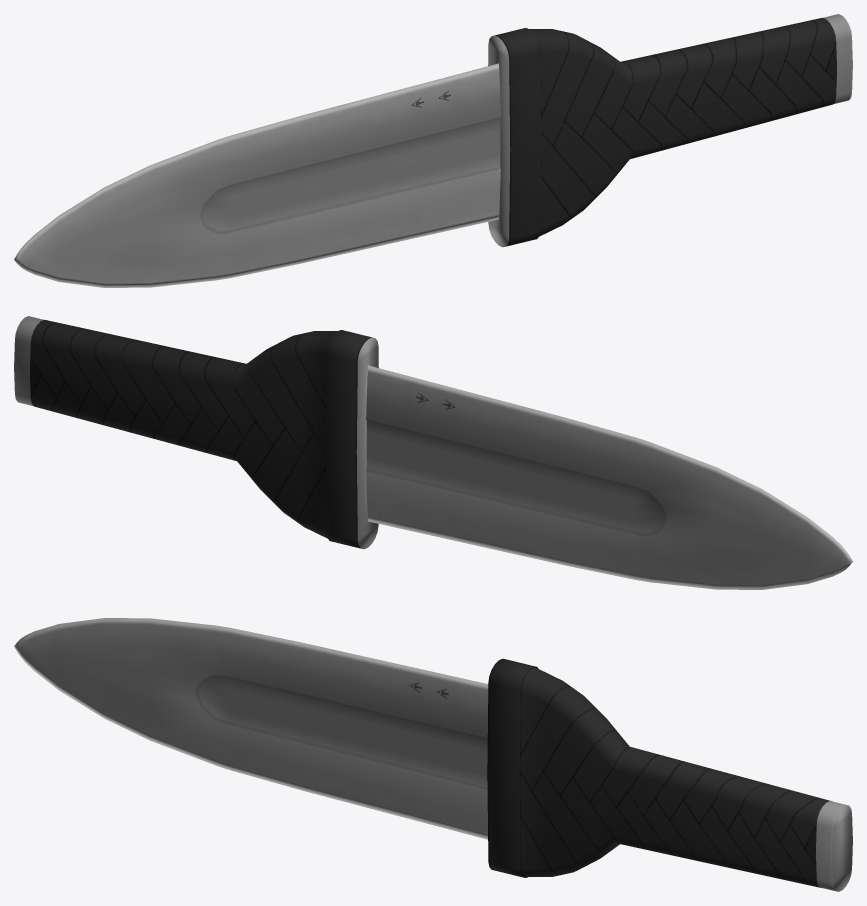
The picture shows the model from 3 angles, top to bottom: view 1: azimuth 30°, elevation 25°; view 2: azimuth 150°, elevation 25°; view 3: azimuth 330°, elevation 25°; orthographic projection.
Parts seen in each view (by area): view 1: Blade, Handle; view 2: Blade, Handle; view 3: Blade, Handle.
Part boxes in pixels (box(x1,y1,x2,y2)): Blade: box(14, 63, 500, 287); Handle: box(488, 14, 852, 247); Blade: box(366, 365, 852, 589); Handle: box(14, 316, 378, 549); Blade: box(14, 618, 488, 839); Handle: box(487, 658, 852, 891).
Size of the model in its own units: 4.74 by 1.14 by 0.2258.
2 materials, 2 textured.
